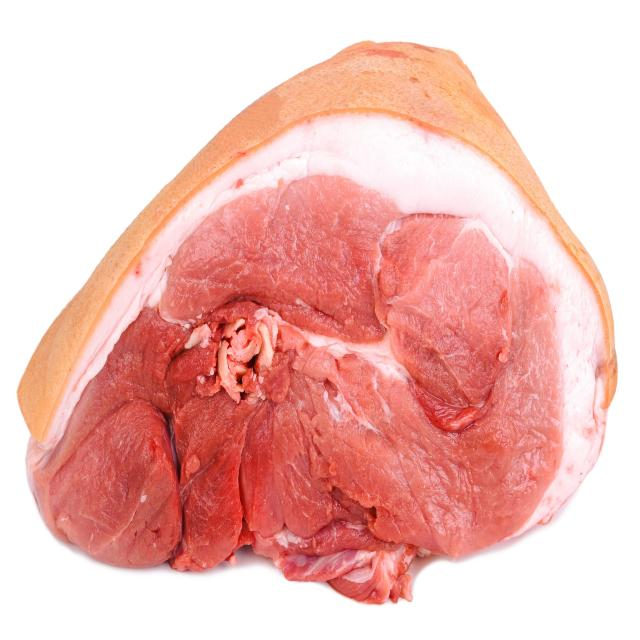Pork: (16, 40, 618, 610)
